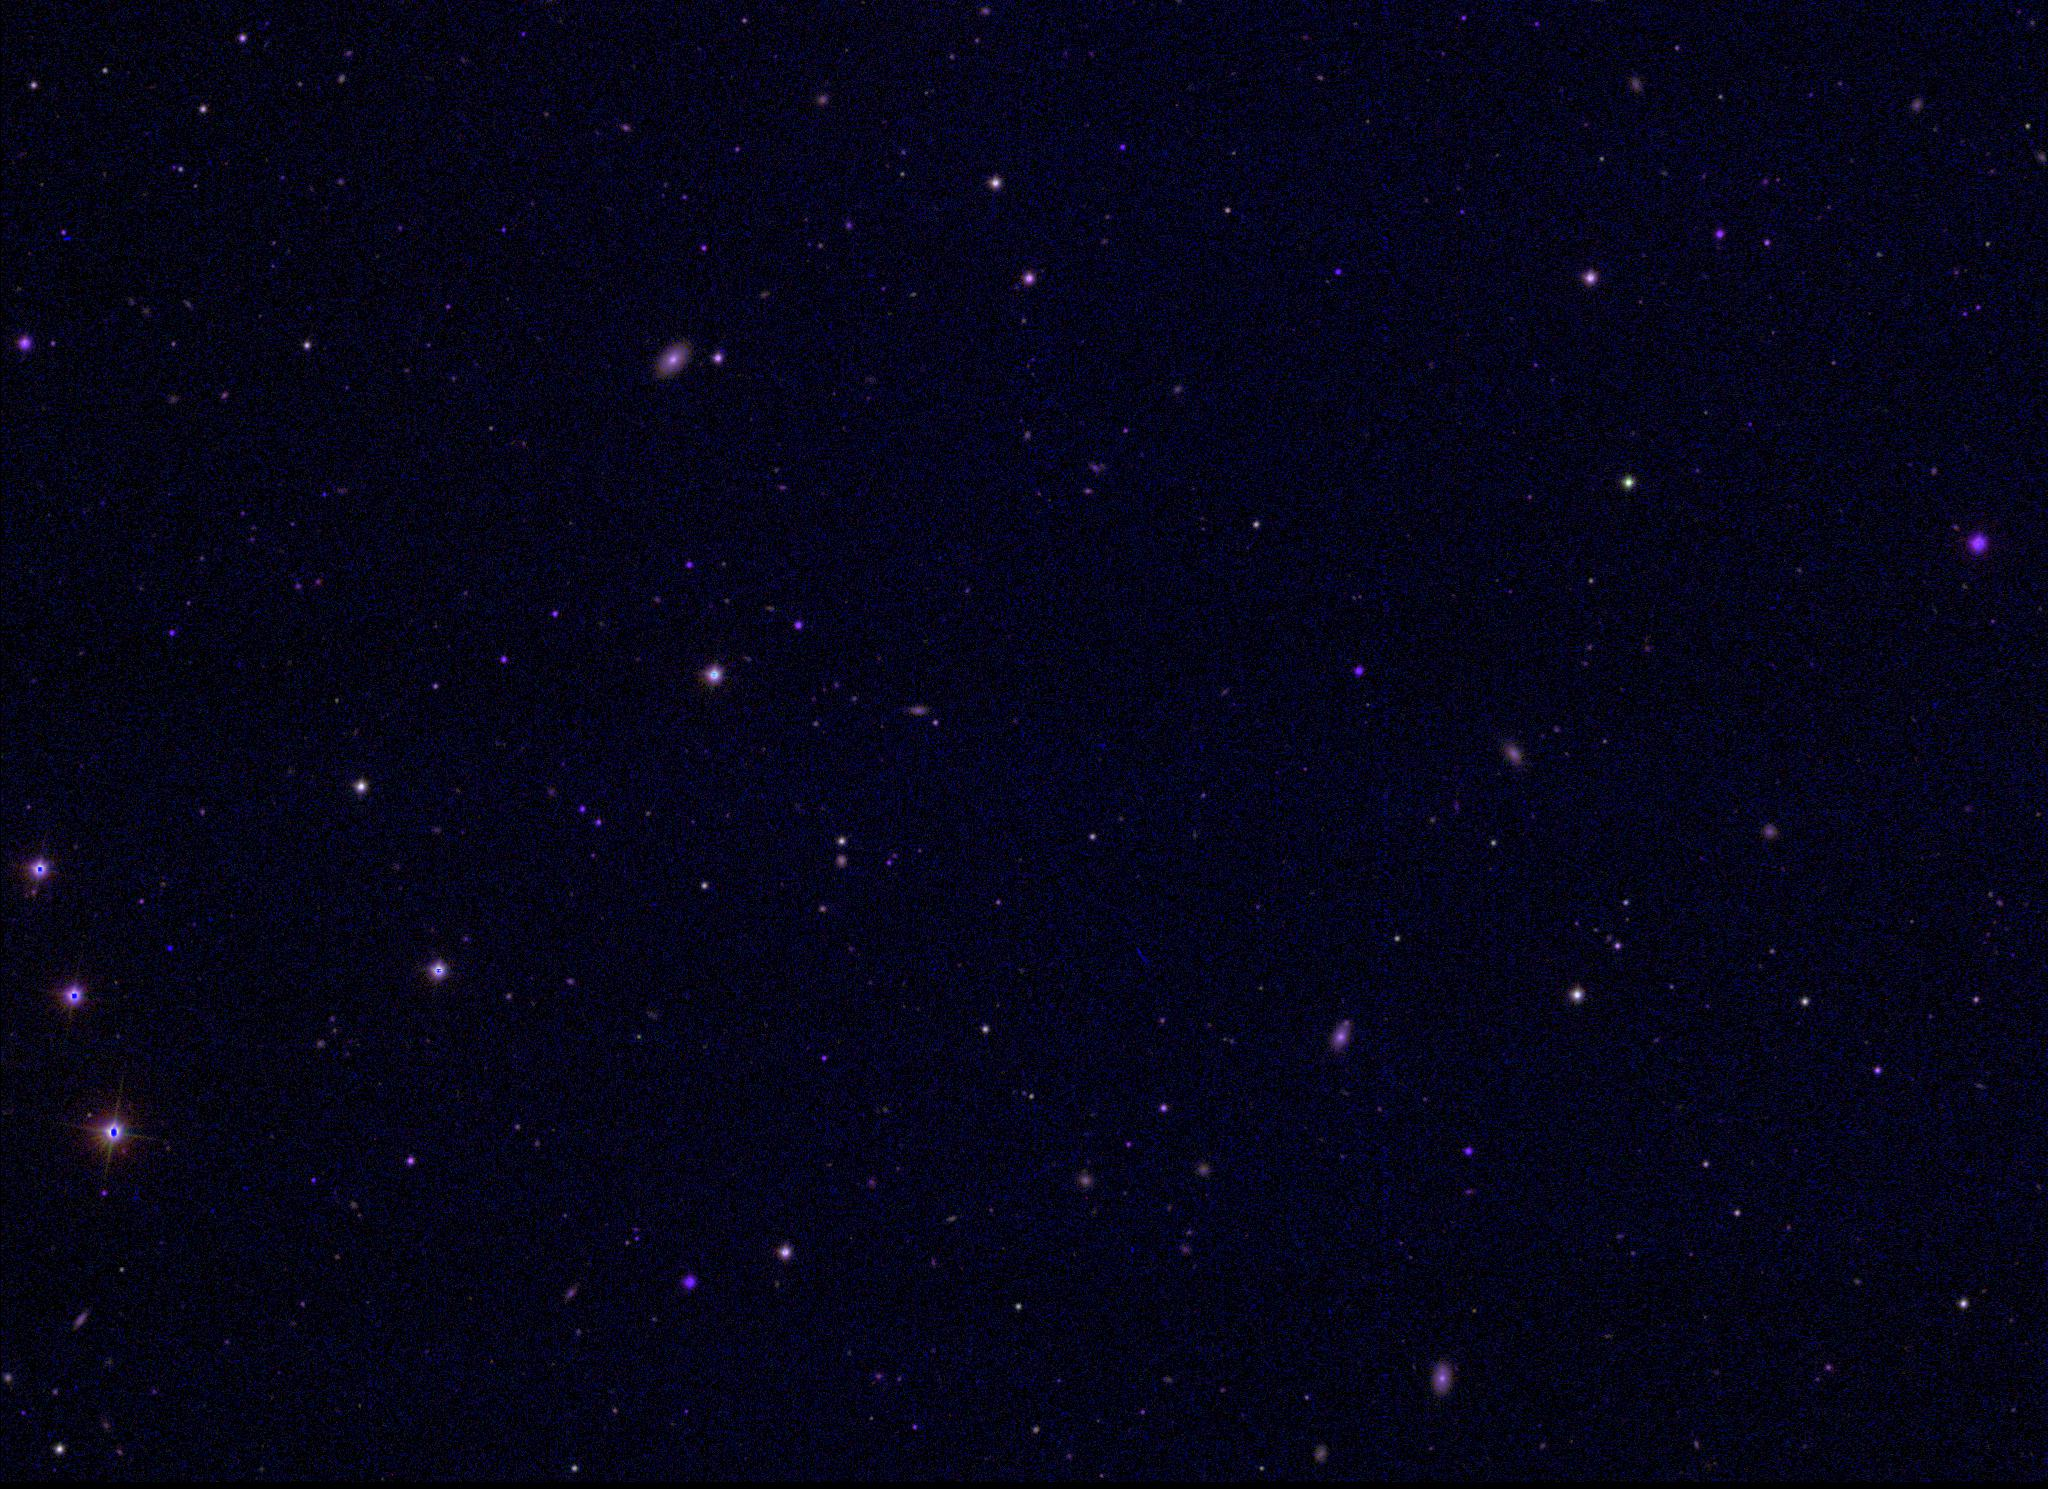L: (161, 942, 173, 954)
